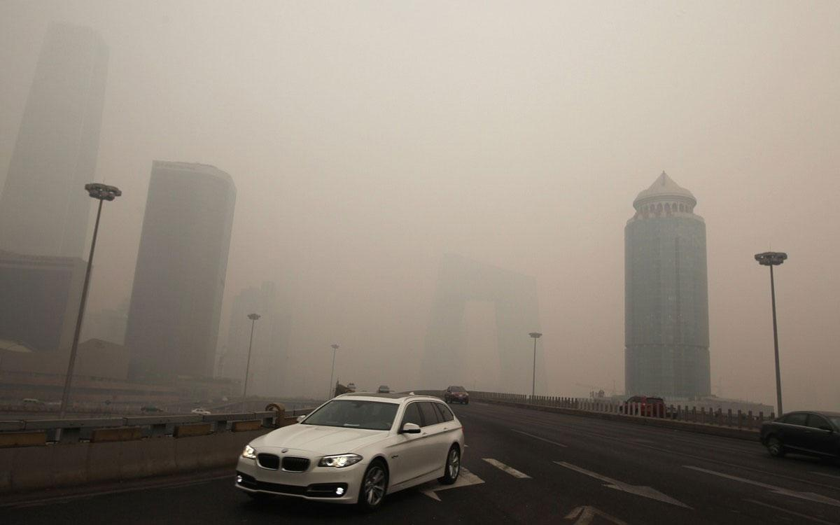car: (232, 393, 466, 511), (758, 408, 840, 461), (616, 394, 665, 421), (443, 384, 470, 404), (191, 407, 212, 418), (22, 396, 42, 406), (376, 383, 391, 395), (345, 380, 357, 394), (141, 406, 164, 413)
